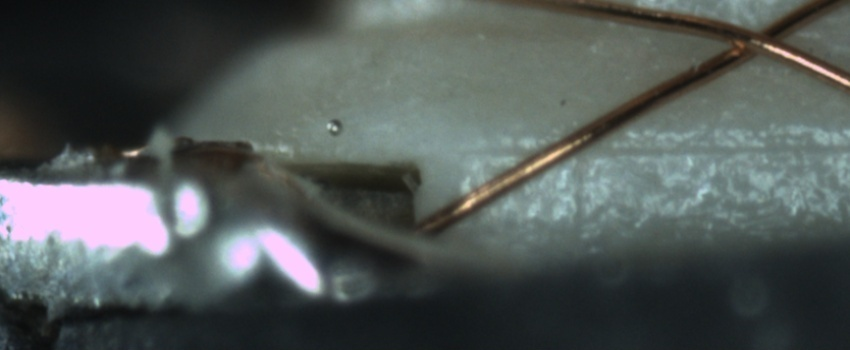CL: (715, 13, 811, 69)
DL: (466, 119, 849, 182)
